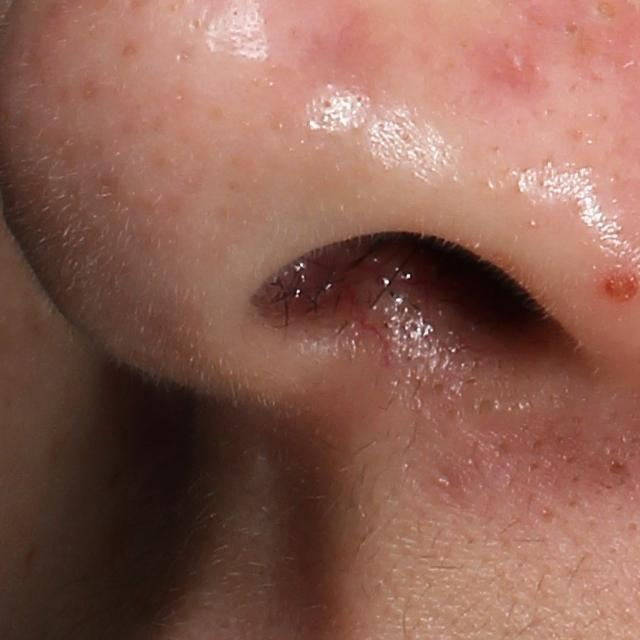comedo: (560, 11, 585, 43)
